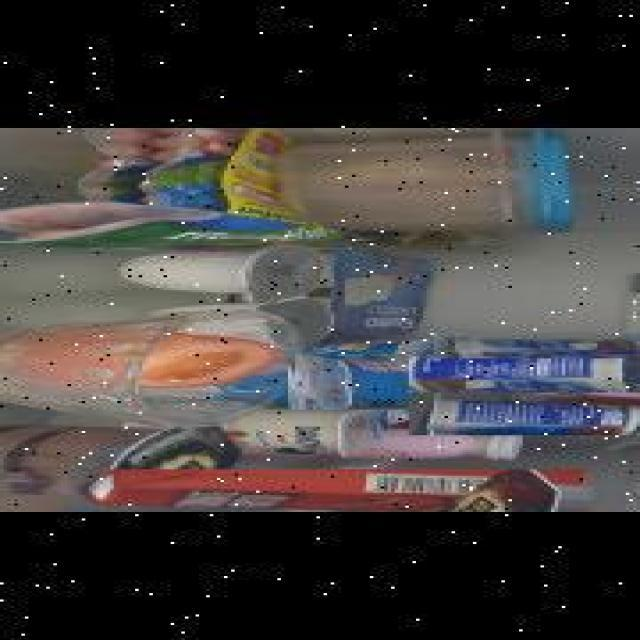sausage: (0, 128, 324, 243)
tomato: (0, 334, 270, 390)
tomato_sauce: (68, 469, 590, 512)
yogurt: (405, 392, 640, 436), (402, 356, 640, 394), (238, 402, 380, 458), (284, 354, 406, 410), (430, 333, 640, 358)
